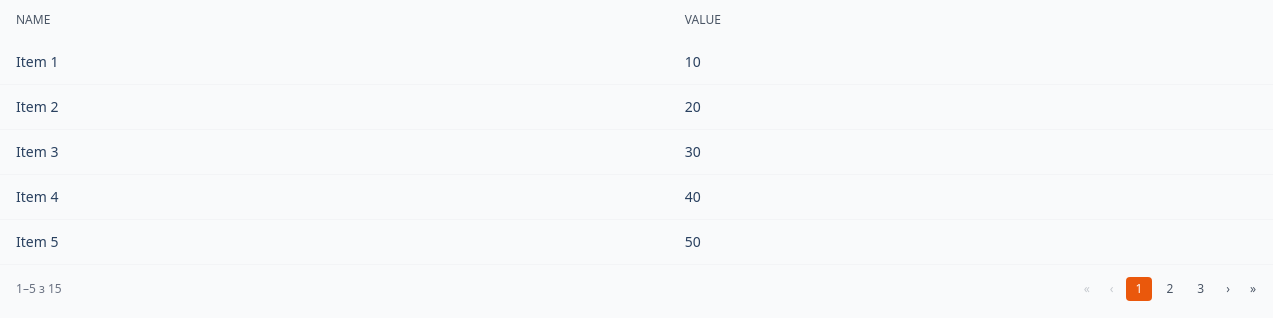
Test: DataTable › navigates to next page
Expected: the text "Item 1" is shown, top-left (0, 40), bottom-right (669, 84)
Expected: the text "Item 6" is not shown
Click next
Click the button named "Наступна сторінка": click(1228, 289) top-left (1218, 277), bottom-right (1238, 301)
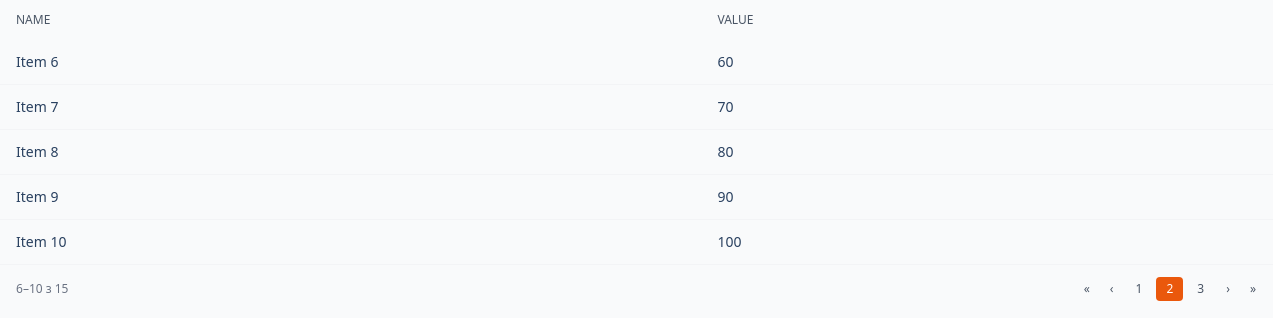
Result: the text "Item 6" is shown at top-left (0, 40), bottom-right (701, 84)
Result: the text "6–10 з 15" is shown at top-left (16, 281), bottom-right (68, 297)
